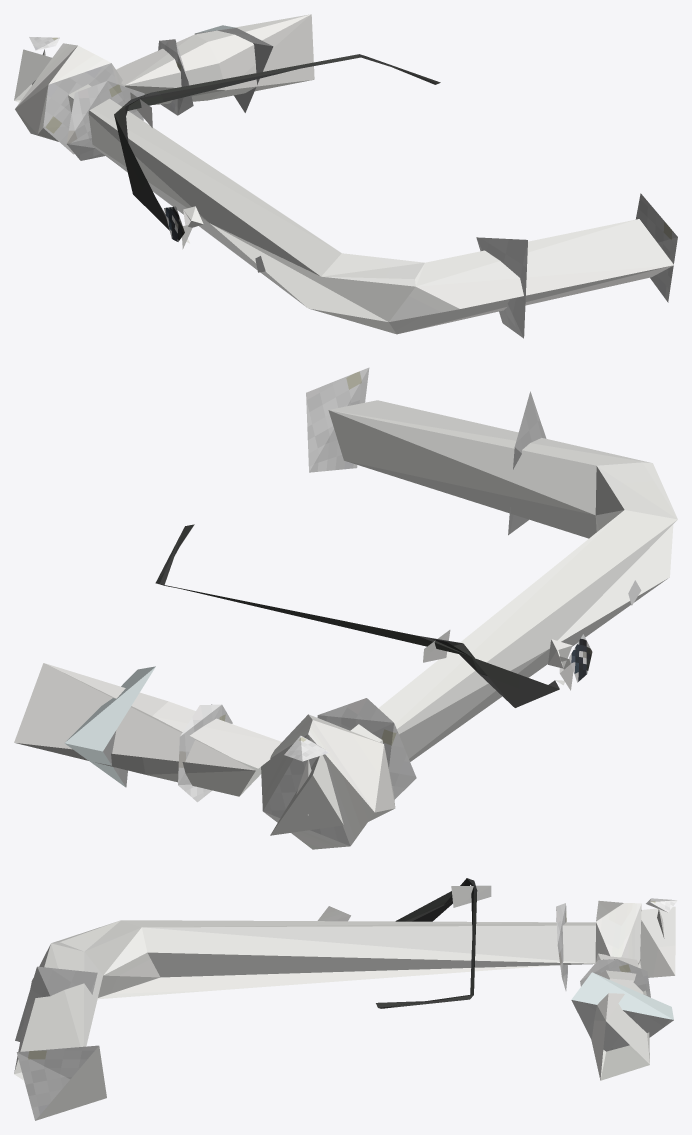
File: peijian114-geode.glb
3 views of the same model, one above another, from view 1: azimuth 30°, elevation 25°; view 2: azimuth 150°, elevation 25°; view 3: azimuth 270°, elevation 25° (orthographic). The views are drawn at different scales.
Visible parts, largest first — view 1: Node; view 2: Node; view 3: Node.
Part boxes in pixels (x1,y1,x2,y2): Node: (14,14,677,338); Node: (14,367,677,849); Node: (14,878,677,1120).
Bounding box in the file's own units: 0.8773 × 0.2767 × 1.56.
1 material, 1 textured.
